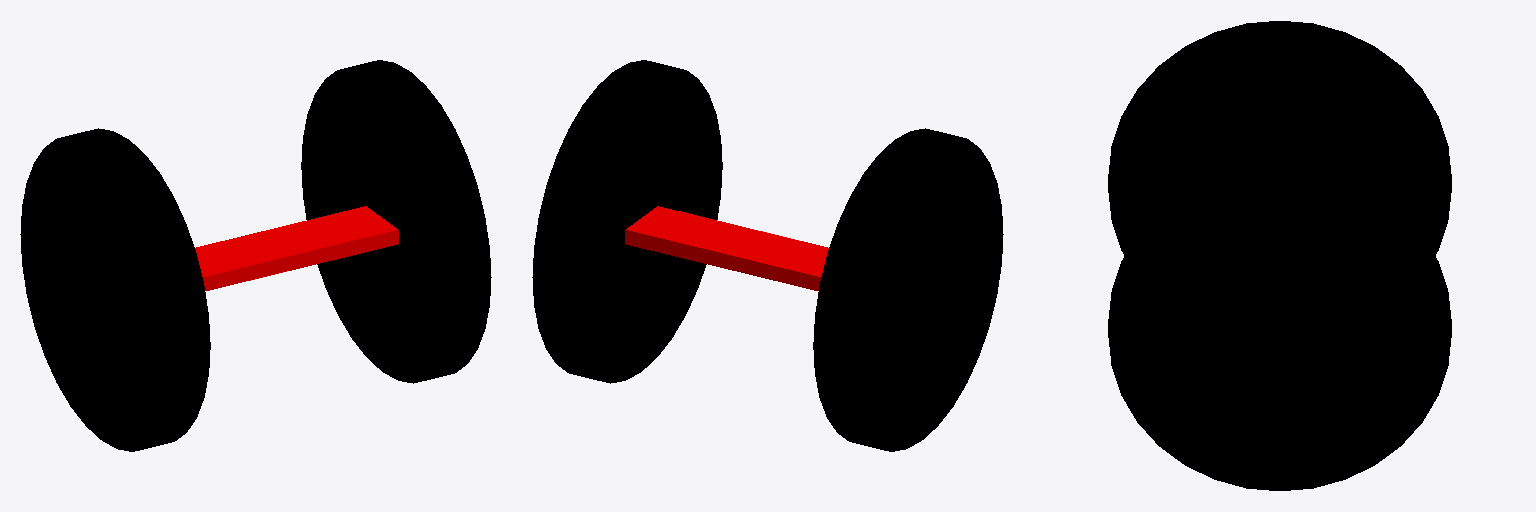
robot.urdf — simple_wheeled_robot:
<?xml version="1.0"?>
<robot name="simple_wheeled_robot">

  <!-- Barra horizontal -->
  <link name="bar">
    <visual>
    <origin rpy="0 0 0" xyz="0 0 -0.10" />
      <geometry>
        <box size="1.0 0.2 0.05"/>
      </geometry>
      <material name="red">
        <color rgba="1 0 0 1"/>
      </material>
    </visual>
    <collision>
    <origin rpy="0 0 0" xyz="0 0 -0.10" />
      <geometry>
        <box size="1.0 0.2 0.05"/>
      </geometry>
    </collision>
    <inertial>
      <mass value="5.0"/>
      <inertia ixx="0.1" ixy="0" ixz="0" iyy="0.1" iyz="0" izz="0.1"/>
    </inertial>
  </link>

  <!-- Rueda izquierda -->
  <link name="left_wheel">
    <visual>
      <geometry>
        <cylinder length="0.1" radius="0.5"/> <!-- Cilindro vertical que representa la rueda -->
      </geometry>
      <material name="black">
        <color rgba="0 0 0 1"/>
      </material>
    </visual>
    <collision>
      <geometry>
        <cylinder length="0.1" radius="0.5"/>
      </geometry>
    </collision>
    <inertial>
      <mass value="5.0"/>
      <inertia ixx="0.2" ixy="0" ixz="0" iyy="0.2" iyz="0" izz="0.2"/>
    </inertial>
  </link>

  <!-- Rueda derecha -->
  <link name="right_wheel">
    <visual>
      <geometry>
        <cylinder length="0.1" radius="0.5"/> <!-- Cilindro vertical que representa la rueda -->
      </geometry>
      <material name="black">
        <color rgba="0 0 0 1"/>
      </material>
    </visual>
    <collision>
      <geometry>
        <cylinder length="0.1" radius="0.5"/>
      </geometry>
    </collision>
    <inertial>
      <mass value="5.0"/>
      <inertia ixx="0.2" ixy="0" ixz="0" iyy="0.2" iyz="0" izz="0.2"/>
    </inertial>
  </link>

  <!-- Articulaciones revolutivas para conectar las ruedas a la barra, ajustando para que las ruedas estén verticales -->
  <joint name="left_wheel_joint" type="continuous">
    <parent link="bar"/>
    <child link="left_wheel"/>
    <origin xyz="-0.5 0 -0.1" rpy="0 1.57 0"/> <!-- Rotación de 90 grados (1.57 radianes) para hacer la rueda vertical -->
    <axis xyz="0 0 1"/> <!-- Eje de rotación ajustado para la articulación revolutiva -->
  </joint>

  <joint name="right_wheel_joint" type="continuous">
    <parent link="bar"/>
    <child link="right_wheel"/>
    <origin xyz="0.5 0 -0.1" rpy="0 1.57 0"/> <!-- Rotación de 90 grados (1.57 radianes) para hacer la rueda vertical -->
    <axis xyz="0 0 1"/> <!-- Eje de rotación ajustado para la articulación revolutiva -->
  </joint>

</robot>

--- Facts derived from the render (not from the file) ---
Views: 3 orthographic renders of the robot side by side, from view 1: azimuth 30°, elevation 25°; view 2: azimuth 150°, elevation 25°; view 3: azimuth 270°, elevation 25°.
Robot: simple_wheeled_robot — 3 links, 2 joints (2 continuous); root link bar; default pose: all joints at 0.
Links seen in each view (by area): view 1: left_wheel, right_wheel, bar; view 2: left_wheel, right_wheel, bar; view 3: right_wheel, left_wheel.
Link boxes in pixels (left/top/right/bottom): left_wheel: left=20, top=128, right=210, bottom=451; right_wheel: left=301, top=60, right=491, bottom=383; bar: left=195, top=206, right=398, bottom=290; left_wheel: left=813, top=128, right=1003, bottom=451; right_wheel: left=532, top=60, right=722, bottom=383; bar: left=625, top=206, right=828, bottom=290; right_wheel: left=1108, top=166, right=1451, bottom=490; left_wheel: left=1108, top=21, right=1451, bottom=255.
Size in the robot's own frame: 1.1 by 1 by 1 metres.
Geometry: primitives only (box / cylinder / sphere), no mesh files.